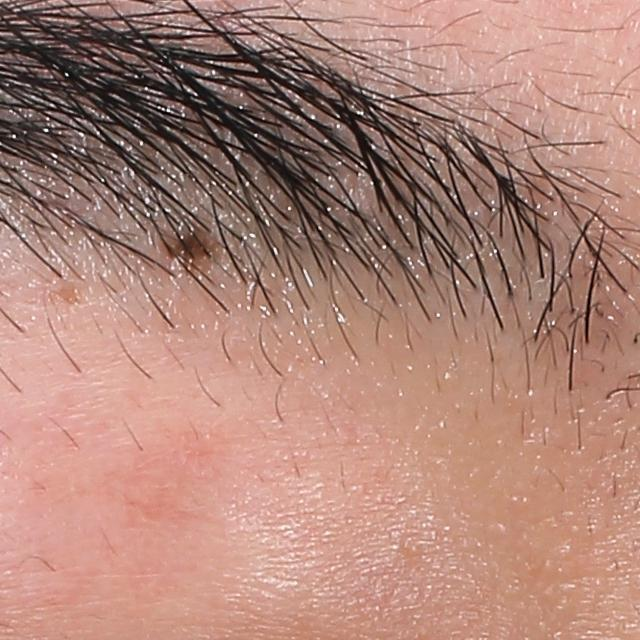nevus: (163, 223, 217, 279)
